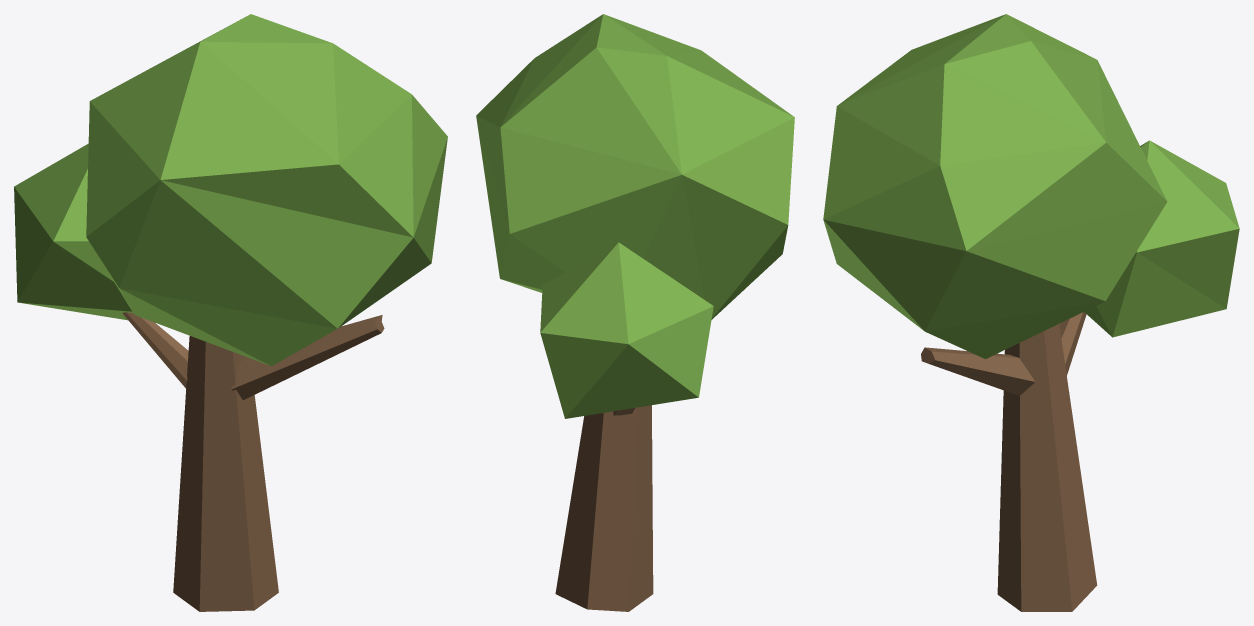
File: Decid3.fbx
The picture shows the model from 3 angles, left to right: view 1: azimuth 30°, elevation 25°; view 2: azimuth 150°, elevation 25°; view 3: azimuth 270°, elevation 25°; orthographic projection. The views are drawn at different scales.
Parts seen in each view (by area): view 1: trunk; view 2: trunk; view 3: trunk.
Part boxes in pixels (x1,y1,x2,y2): trunk: (14,14,447,611); trunk: (476,14,794,611); trunk: (823,14,1239,611).
Size of the model in its own units: 234 by 371 by 250.
